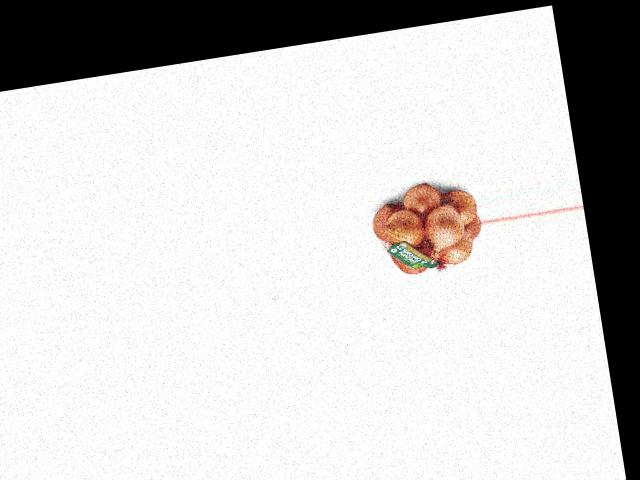onion: (366, 200, 408, 241)
